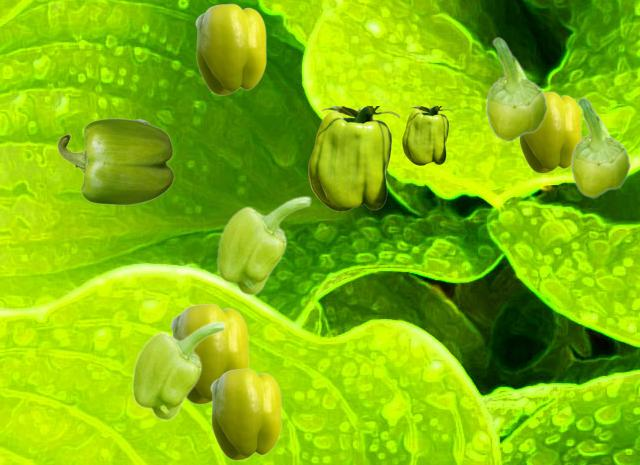bell_pepper: (57, 118, 173, 204), (131, 320, 226, 420), (216, 195, 311, 295), (308, 106, 399, 210), (170, 303, 247, 403), (485, 37, 547, 141), (210, 368, 280, 459), (195, 3, 265, 94), (570, 97, 630, 197), (518, 91, 580, 172), (402, 106, 452, 164)
